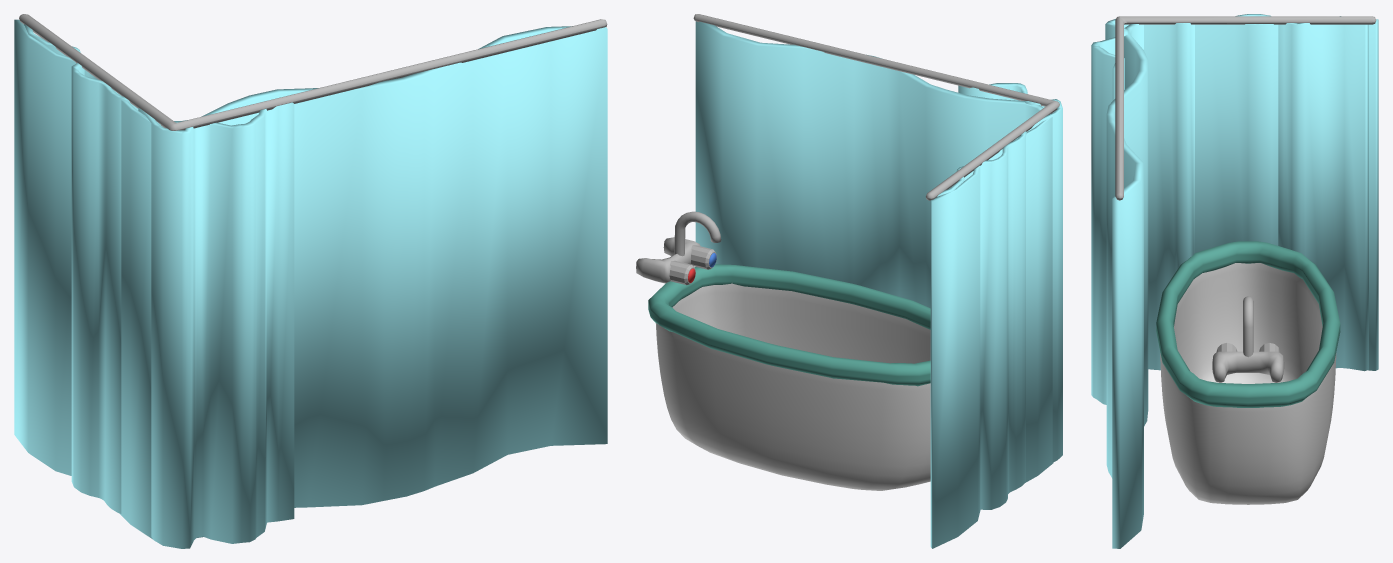
File: Bathtub-Curtain.fbx
3 renders of one model, left to right at view 1: azimuth 30°, elevation 25°; view 2: azimuth 150°, elevation 25°; view 3: azimuth 270°, elevation 25°, orthographic. The views are drawn at different scales.
Visible parts, largest first — view 1: CurtainClosed, CurtainOpen, Pole; view 2: CurtainClosed, Tub, CurtainOpen, TubTop, Pole, Tap; view 3: CurtainOpen, CurtainClosed, Tub, TubTop, Pole, Tap.
Boxes of the visible parts, <box> form: CurtainClosed: <box>14,19,607,539</box>; CurtainOpen: <box>24,24,294,548</box>; Pole: <box>19,14,607,130</box>; CurtainClosed: <box>695,21,1053,548</box>; Tub: <box>655,283,930,490</box>; CurtainOpen: <box>937,83,1062,509</box>; TubTop: <box>648,264,930,386</box>; Pole: <box>693,14,1059,200</box>; Tap: <box>636,211,721,285</box>; CurtainOpen: <box>1091,14,1368,404</box>; CurtainClosed: <box>1106,16,1378,548</box>; Tub: <box>1160,263,1336,504</box>; TubTop: <box>1156,241,1340,407</box>; Pole: <box>1115,16,1376,200</box>; Tap: <box>1212,296,1284,382</box>.
Bounding box in the file's own units: 206 × 185 × 135.
